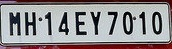character: (73, 10, 87, 35), (8, 11, 21, 37), (23, 11, 36, 35), (57, 10, 69, 36), (89, 11, 102, 35), (106, 10, 118, 35), (121, 11, 133, 35), (151, 11, 163, 35), (43, 11, 52, 36), (138, 10, 147, 35)
